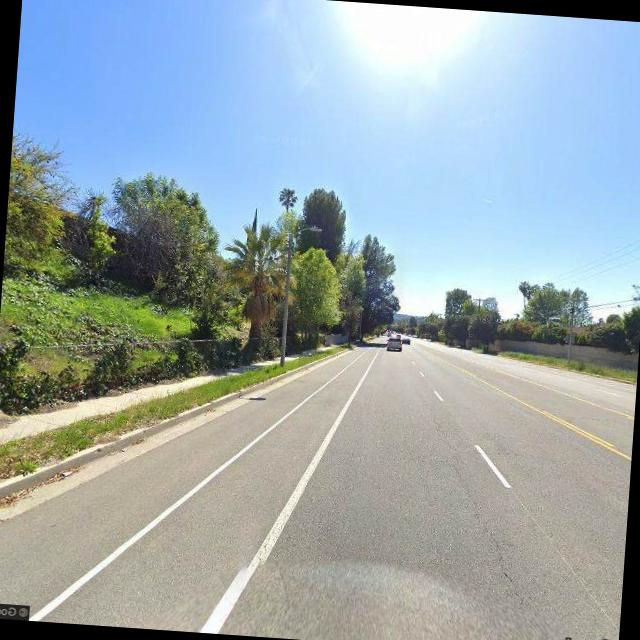pothole: (462, 497, 530, 602)
